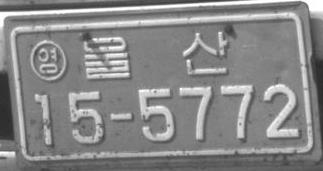-: (109, 108, 132, 124)
1: (28, 93, 61, 146)
2: (263, 82, 299, 138)
5: (137, 87, 176, 142), (66, 90, 105, 144)
7: (220, 83, 255, 139), (179, 85, 214, 140)
영: (29, 39, 67, 81)
울산_D: (82, 30, 227, 81)
